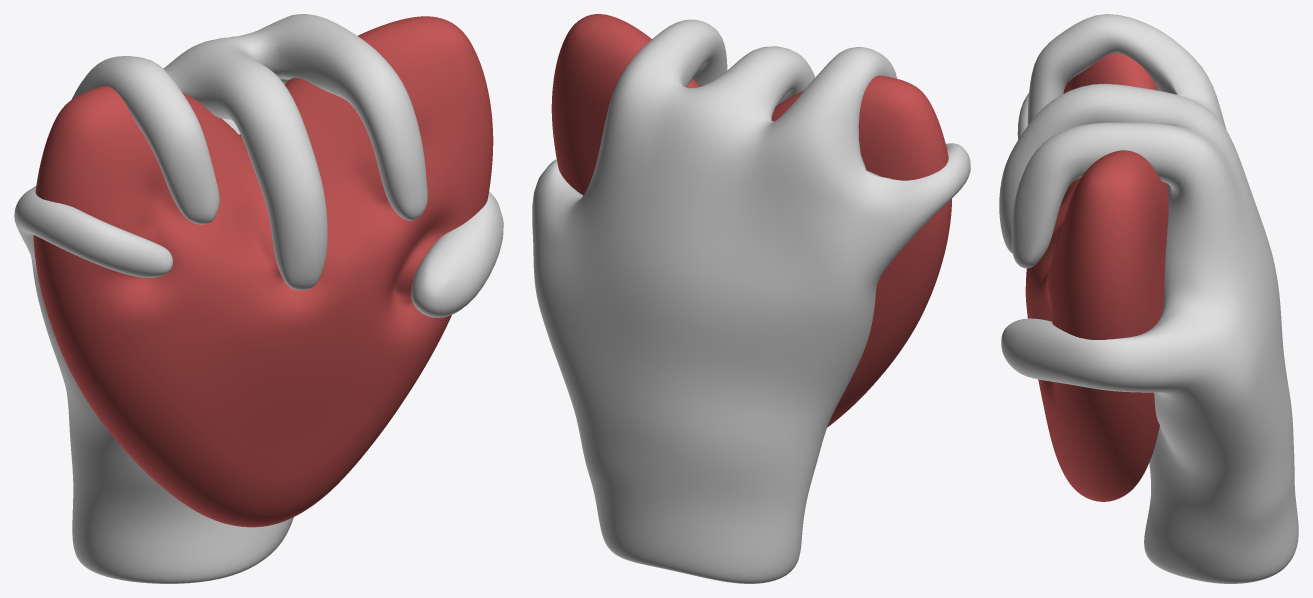
File: lifesteal_HP.fbx
The picture shows the model from 3 angles, left to right: view 1: azimuth 30°, elevation 25°; view 2: azimuth 150°, elevation 25°; view 3: azimuth 270°, elevation 25°; orthographic projection. The views are drawn at different scales.
Visible parts, largest first — view 1: lifesteal_HP; view 2: lifesteal_HP; view 3: lifesteal_HP.
Part boxes in pixels (left/top/right/bottom): lifesteal_HP: left=14, top=14, right=503, bottom=583; lifesteal_HP: left=532, top=14, right=970, bottom=583; lifesteal_HP: left=999, top=14, right=1298, bottom=583.
Size of the model in its own units: 14.11 by 15.96 by 8.87.
